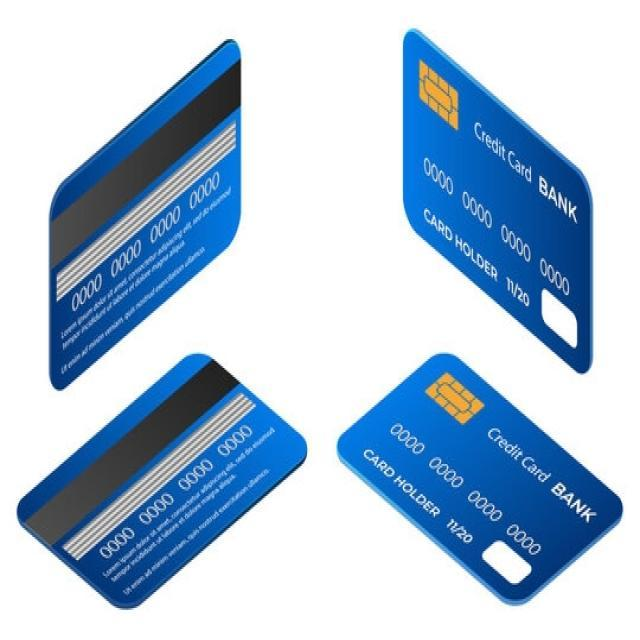payment_card: (15, 351, 308, 609), (335, 351, 623, 606), (400, 26, 595, 373)
